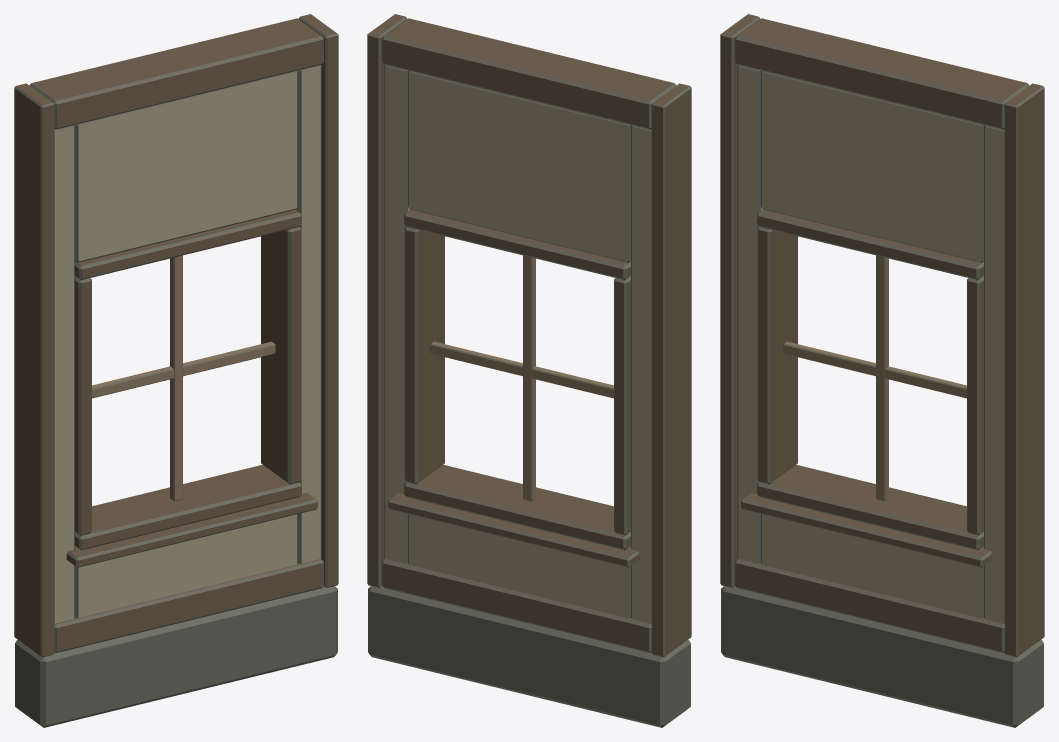
Rendered from window.glb.
The picture shows the model from 3 angles, left to right: view 1: azimuth 30°, elevation 25°; view 2: azimuth 150°, elevation 25°; view 3: azimuth 330°, elevation 25°; orthographic projection.
Parts seen in each view (by area): view 1: Window_Timber; view 2: Window_Timber; view 3: Window_Timber.
Part boxes in pixels (<box>): Window_Timber: <box>14,14,338,727</box>; Window_Timber: <box>367,14,691,727</box>; Window_Timber: <box>720,14,1044,727</box>.
Size of the model in its own units: 1.52 by 3.05 by 0.38.
